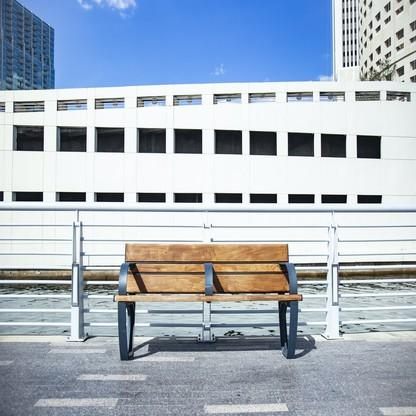obstacle: (110, 231, 317, 367)
